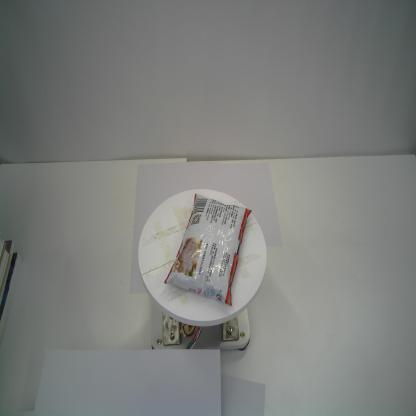Seasoner: (163, 191, 253, 309)
